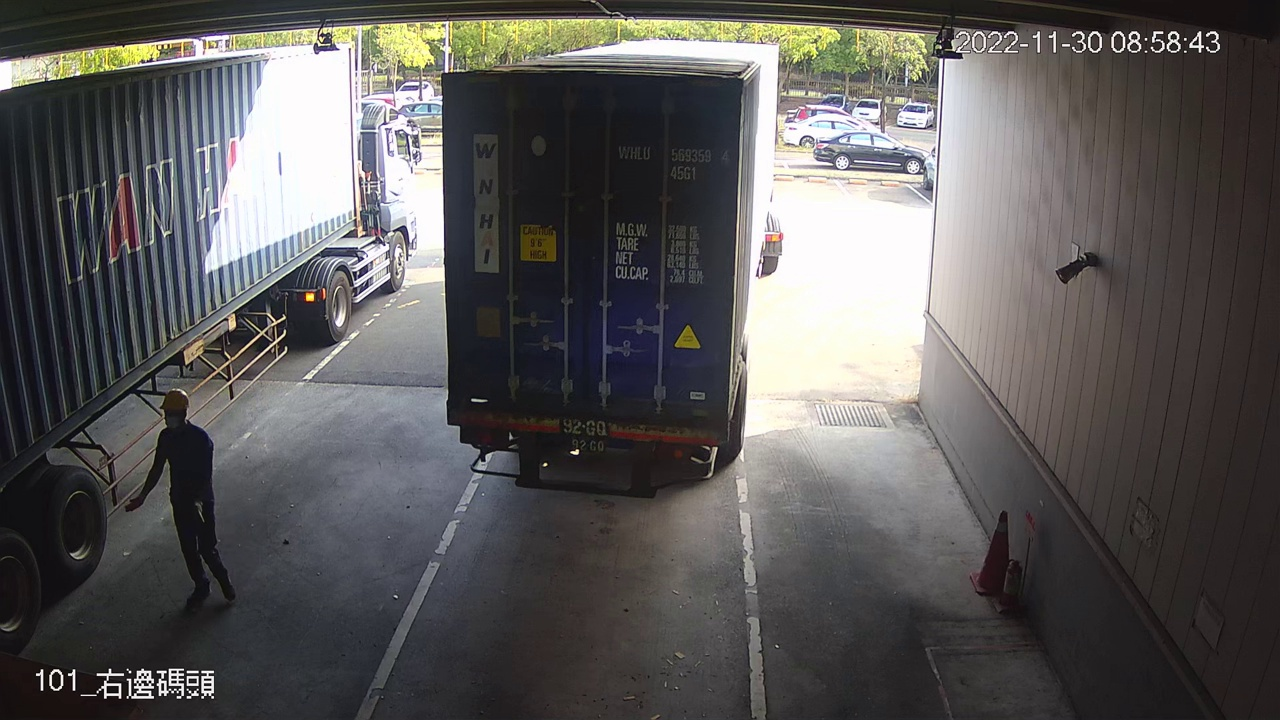container: (614, 136, 736, 187)
